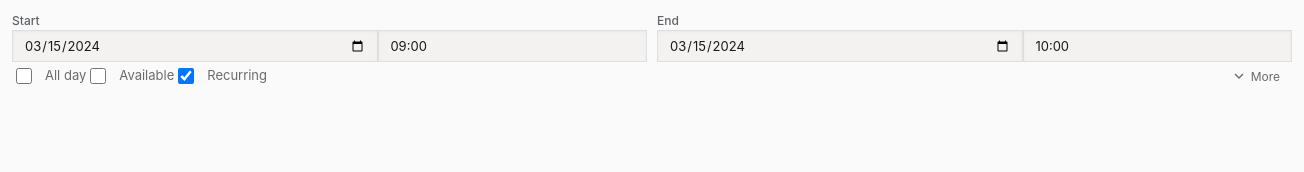
EventFormFields › compact time input › rejects an invalid compact time
The width and height of the screenshot is (1304, 172).
Replace the text in the field named "Start time" with "2460" at (513, 46), box [378,30,647,62]
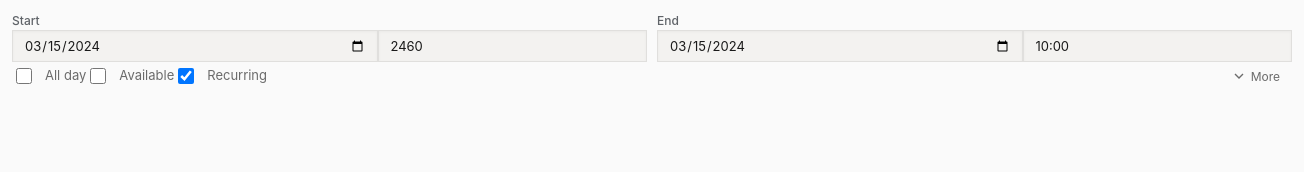
Leave the field named "Start time", box [378,30,647,62]
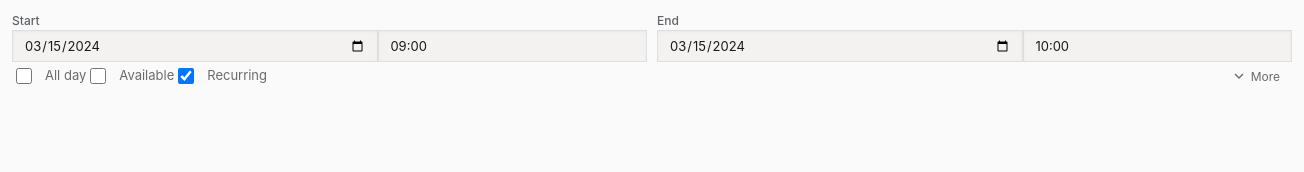
Result: the field named "Start time" holds "09:00" at [378,30,647,62]
